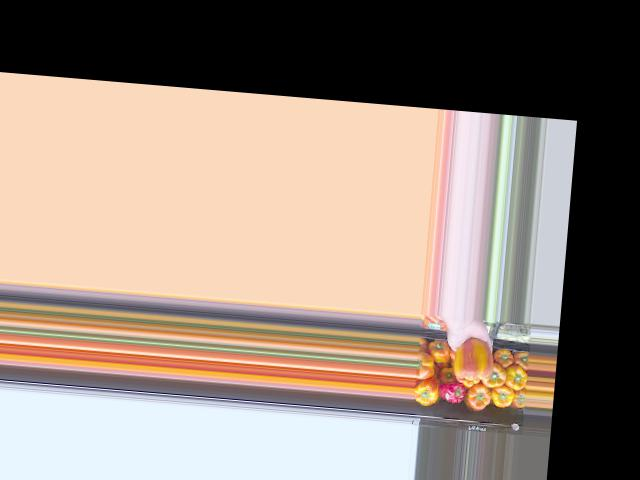bell_pepper: (425, 341, 453, 364)
